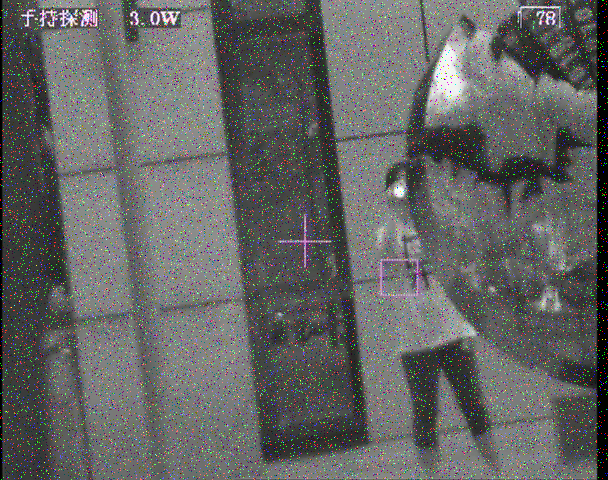my: (393, 185, 406, 198)
